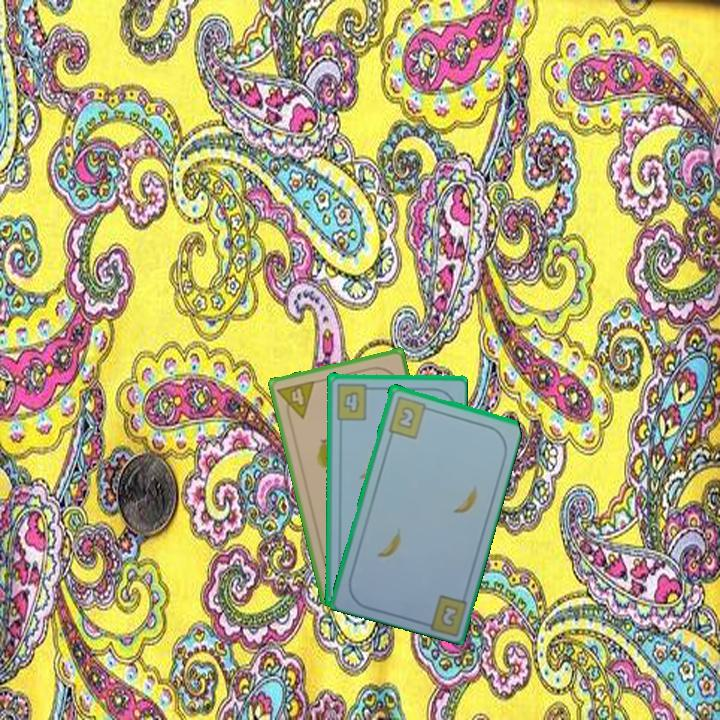2b: (384, 392, 434, 441), (437, 601, 461, 629)
4b: (333, 380, 376, 422)
4p: (274, 377, 318, 424)
